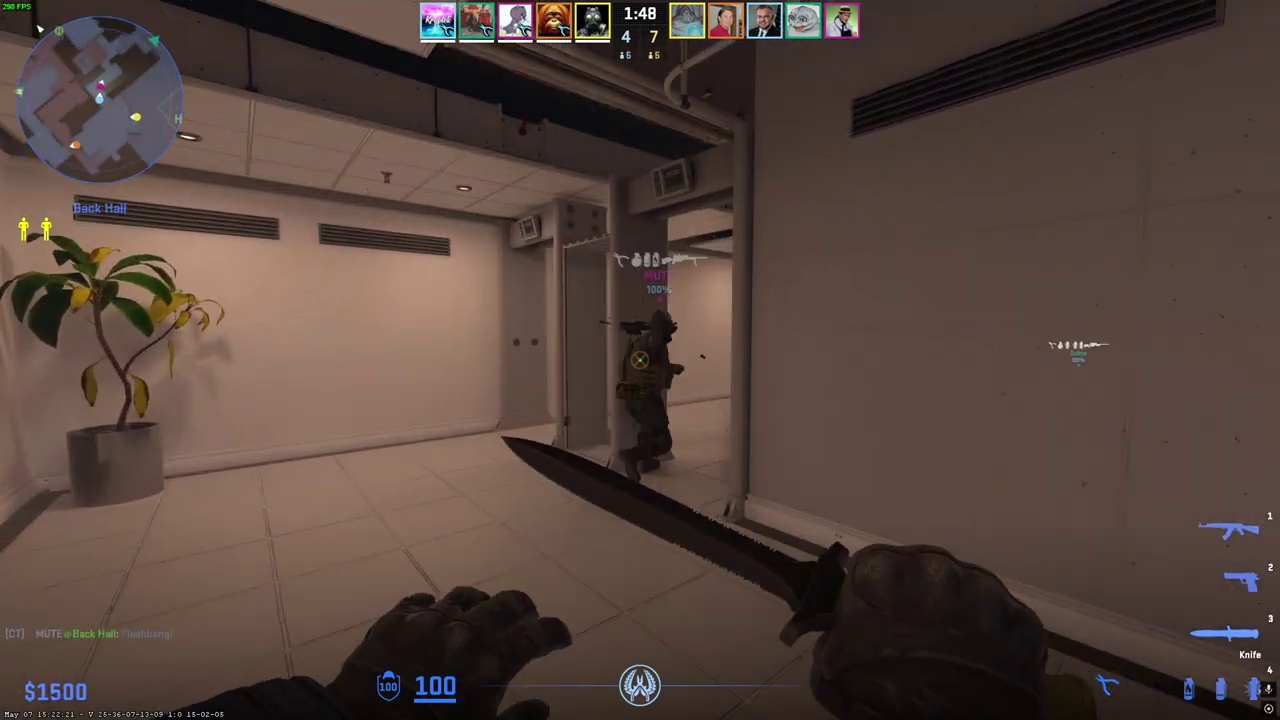CT: (615, 309, 682, 483)
